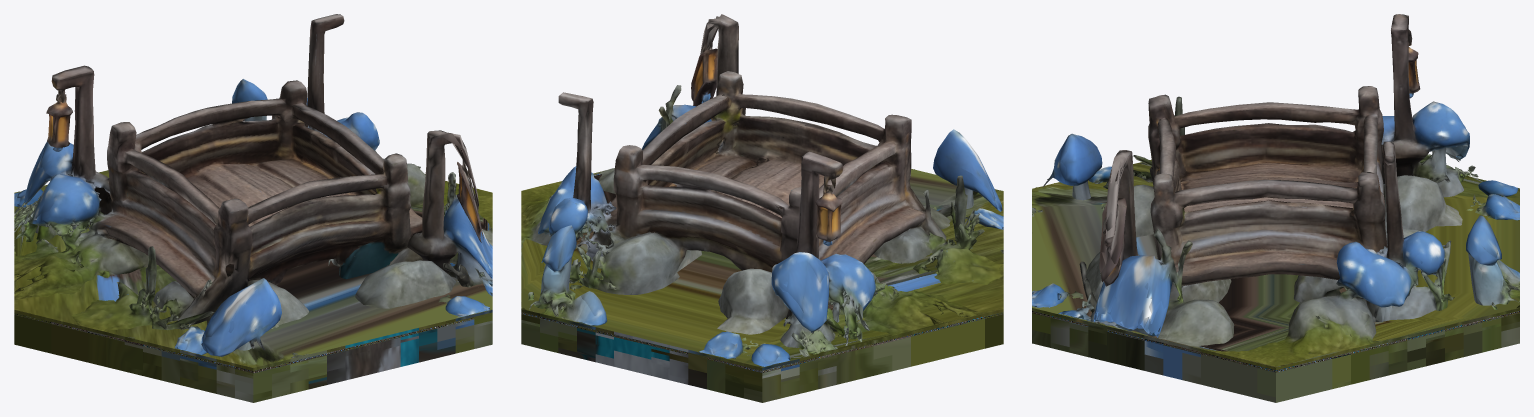
File: hex_woodland_bridge.glb
3 renders of one model, left to right at view 1: azimuth 30°, elevation 25°; view 2: azimuth 150°, elevation 25°; view 3: azimuth 270°, elevation 25°, orthographic. The views are drawn at different scales.
Visible parts, largest first — view 1: hex_woodland_bridge_s11_fit; view 2: hex_woodland_bridge_s11_fit; view 3: hex_woodland_bridge_s11_fit.
Boxes of the visible parts, bbox=[...] form: hex_woodland_bridge_s11_fit: bbox=[14, 14, 492, 402]; hex_woodland_bridge_s11_fit: bbox=[521, 14, 1003, 402]; hex_woodland_bridge_s11_fit: bbox=[1032, 14, 1519, 402].
Size of the model in its own units: 5.11 by 2.04 by 4.42.
1 material, 1 textured.
